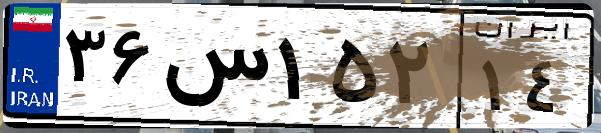1: (270, 28, 330, 110), (475, 38, 525, 113)
2: (385, 28, 445, 110)
3: (57, 26, 110, 100)
4: (525, 38, 570, 115)
5: (330, 28, 385, 110)
6: (110, 28, 158, 98)
س: (158, 20, 270, 120)
